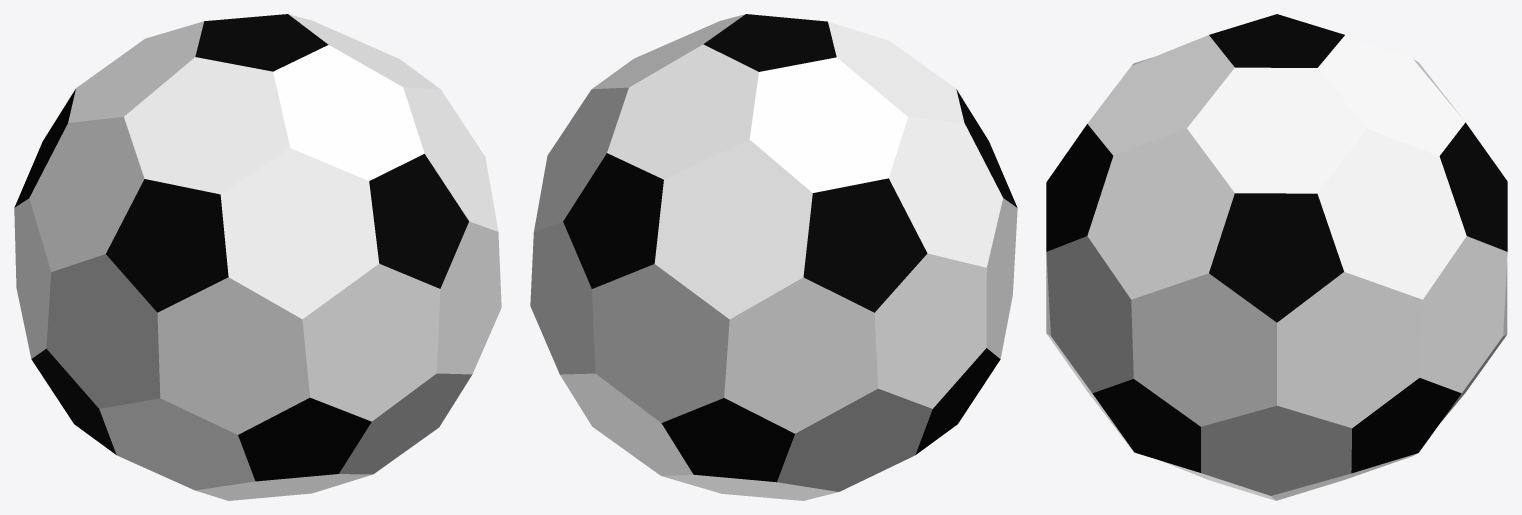
File: football.glb
3 views of the same model, side by side, from view 1: azimuth 30°, elevation 25°; view 2: azimuth 150°, elevation 25°; view 3: azimuth 270°, elevation 25° (orthographic).
Visible parts, largest first — view 1: Football; view 2: Football; view 3: Football.
Boxes of the visible parts, x1=… form: Football: x1=14, y1=14, x2=501, y2=500; Football: x1=530, y1=14, x2=1017, y2=500; Football: x1=1046, y1=14, x2=1507, y2=500.
Size of the model in its own units: 1.86 by 1.81 by 1.77.
1 material, 1 textured.
